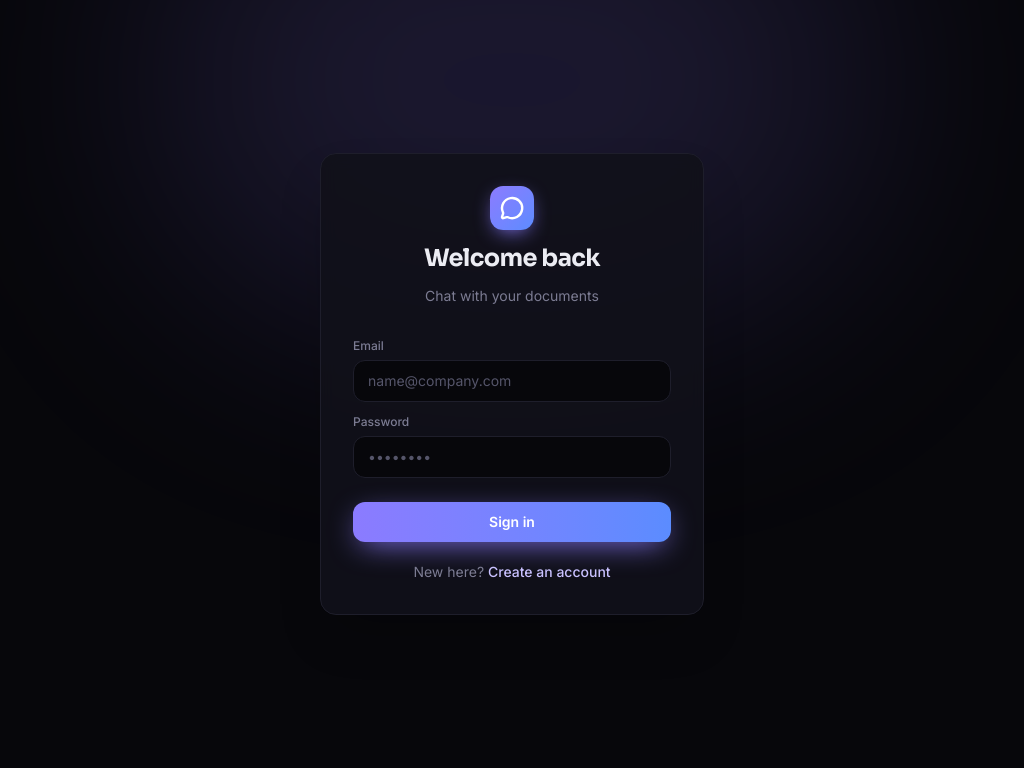
<App> › signs in and shows the saved chats
In the field with placeholder "name@company.com": (512, 381) left=353, top=360, right=671, bottom=402, type "sam@example.com"
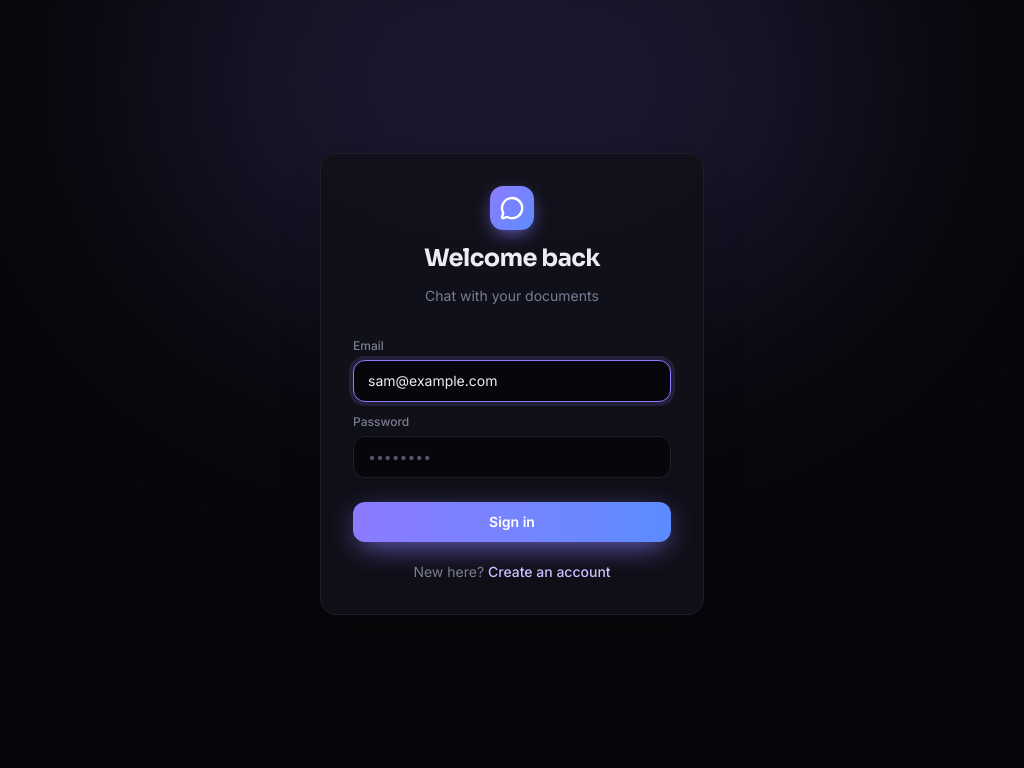
In the password field with placeholder "••••••••": (512, 457) left=353, top=436, right=671, bottom=478, type "correct horse"
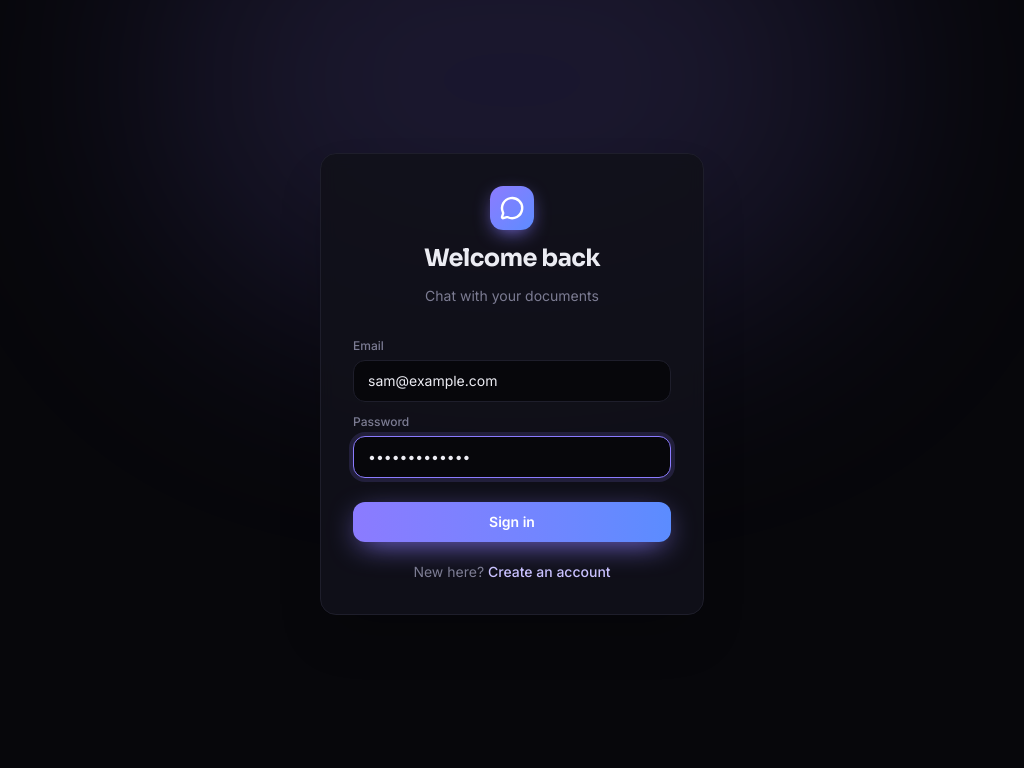
Click the button "Sign in": (512, 522) left=353, top=502, right=671, bottom=542
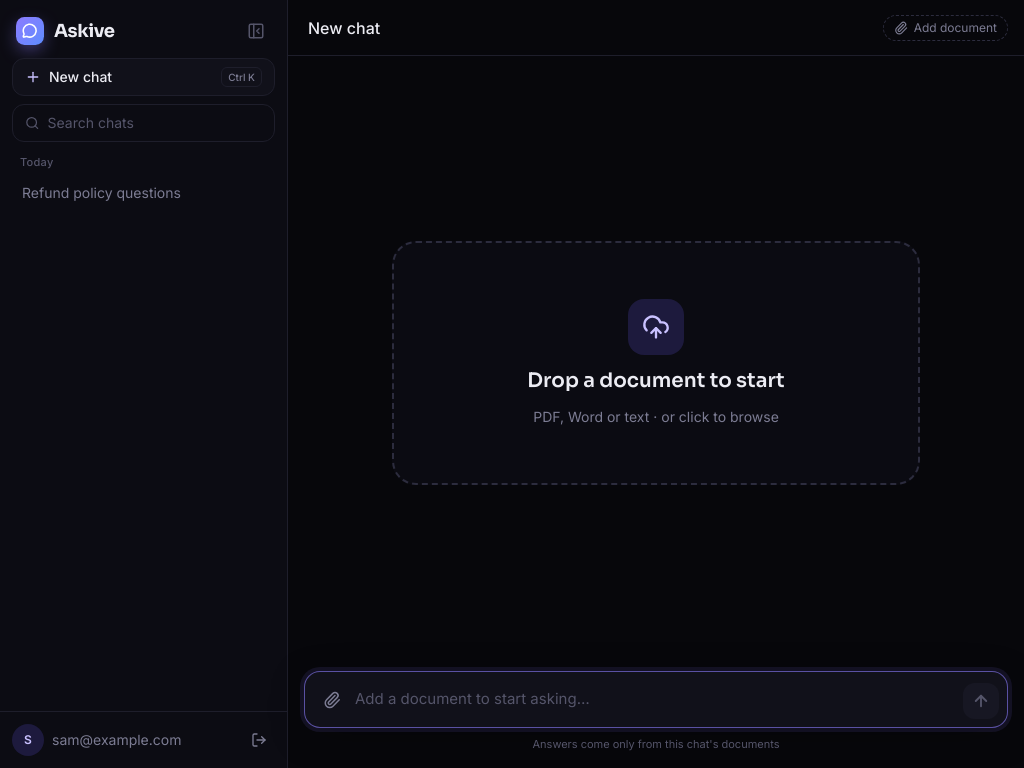
Now the link "Refund policy questions" is shown, box left=22, top=184, right=181, bottom=201
